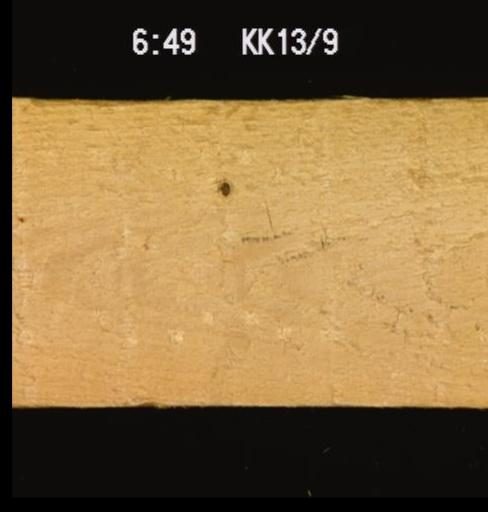dry_knot: (216, 176, 231, 198)
